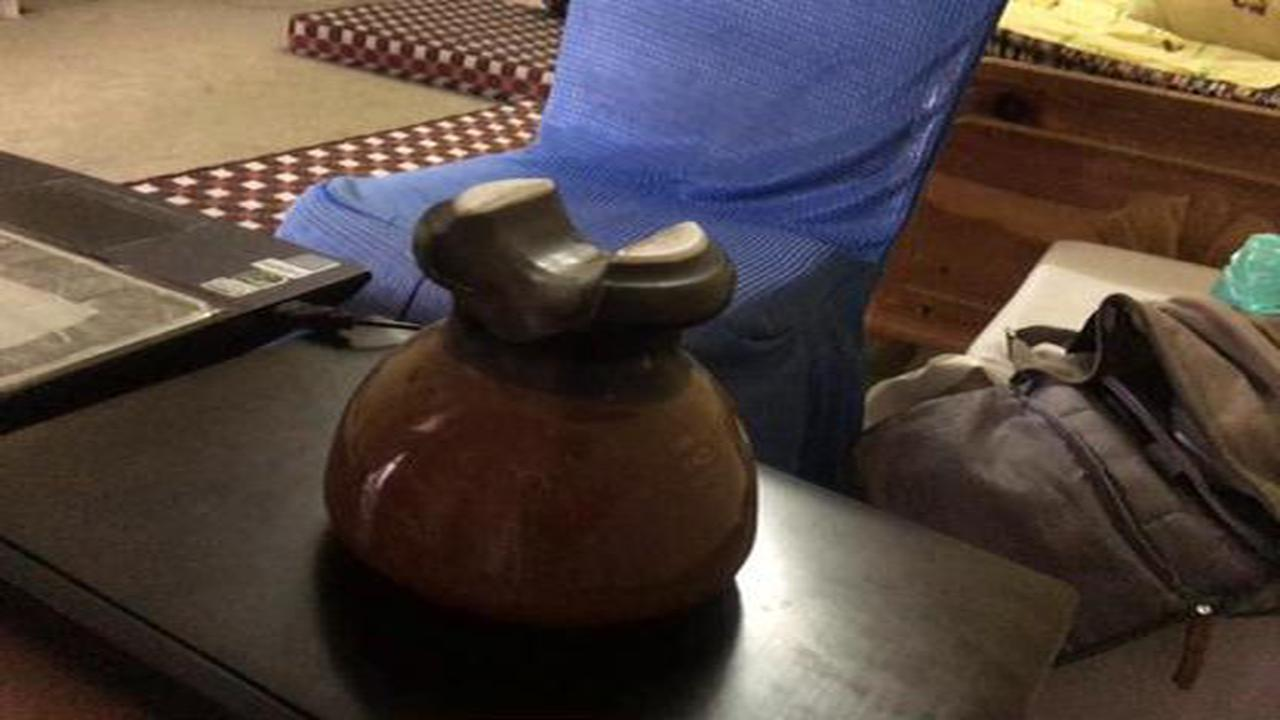insulator_pin: (305, 168, 770, 644)
